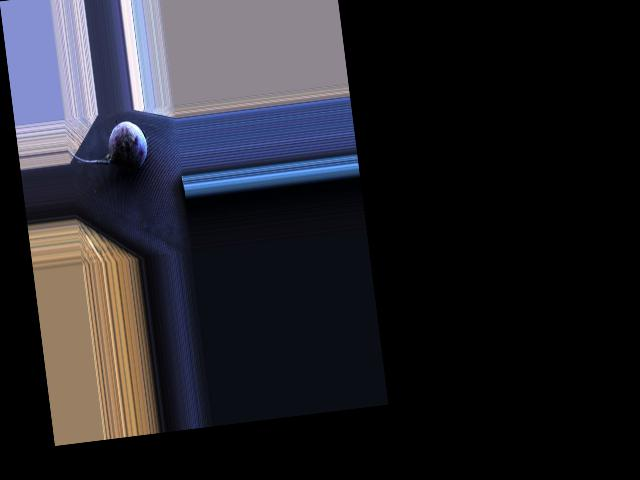beet: (65, 119, 150, 179)
